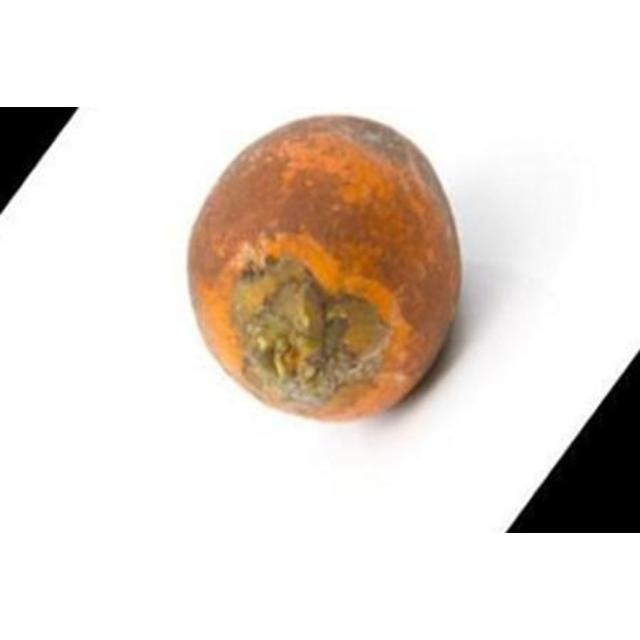good: (186, 117, 462, 426)
